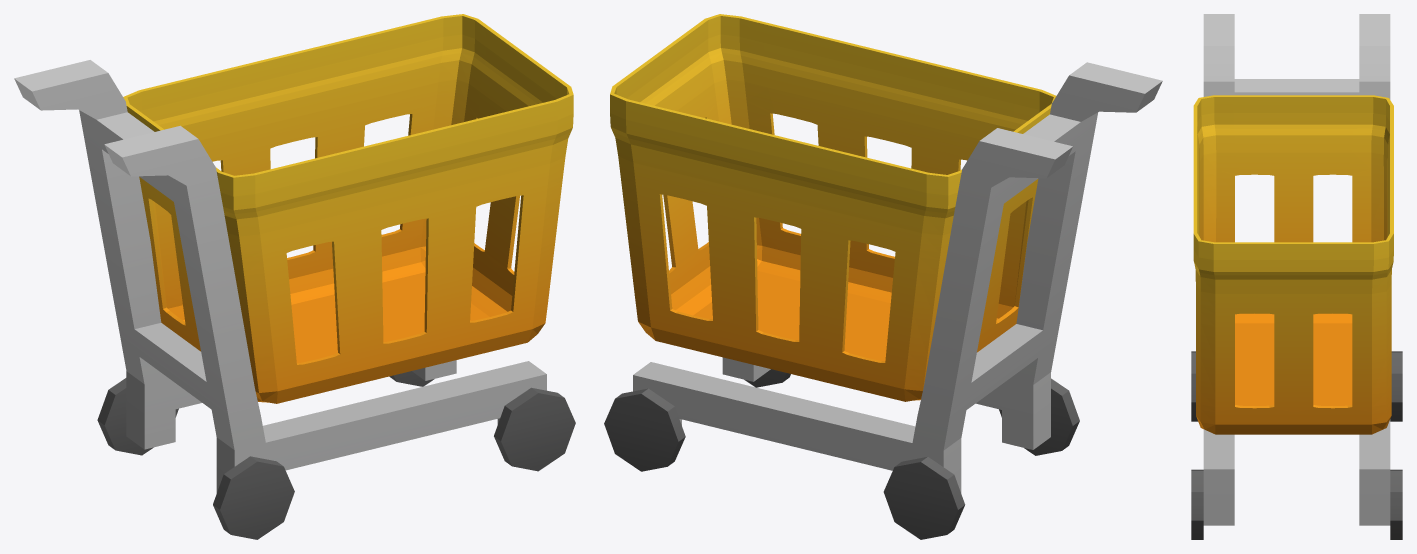
Rendered from cart_orange.fbx.
3 renders of one model, left to right at view 1: azimuth 30°, elevation 25°; view 2: azimuth 150°, elevation 25°; view 3: azimuth 270°, elevation 25°, orthographic. The views are drawn at different scales.
Visible parts, largest first — view 1: cart_orange; view 2: cart_orange; view 3: cart_orange.
Boxes of the visible parts, x1,y1,x2,y2 form: cart_orange: (14,14,575,539); cart_orange: (604,14,1162,539); cart_orange: (1191,14,1402,539).
Size of the model in its own units: 728 by 625 by 340.
